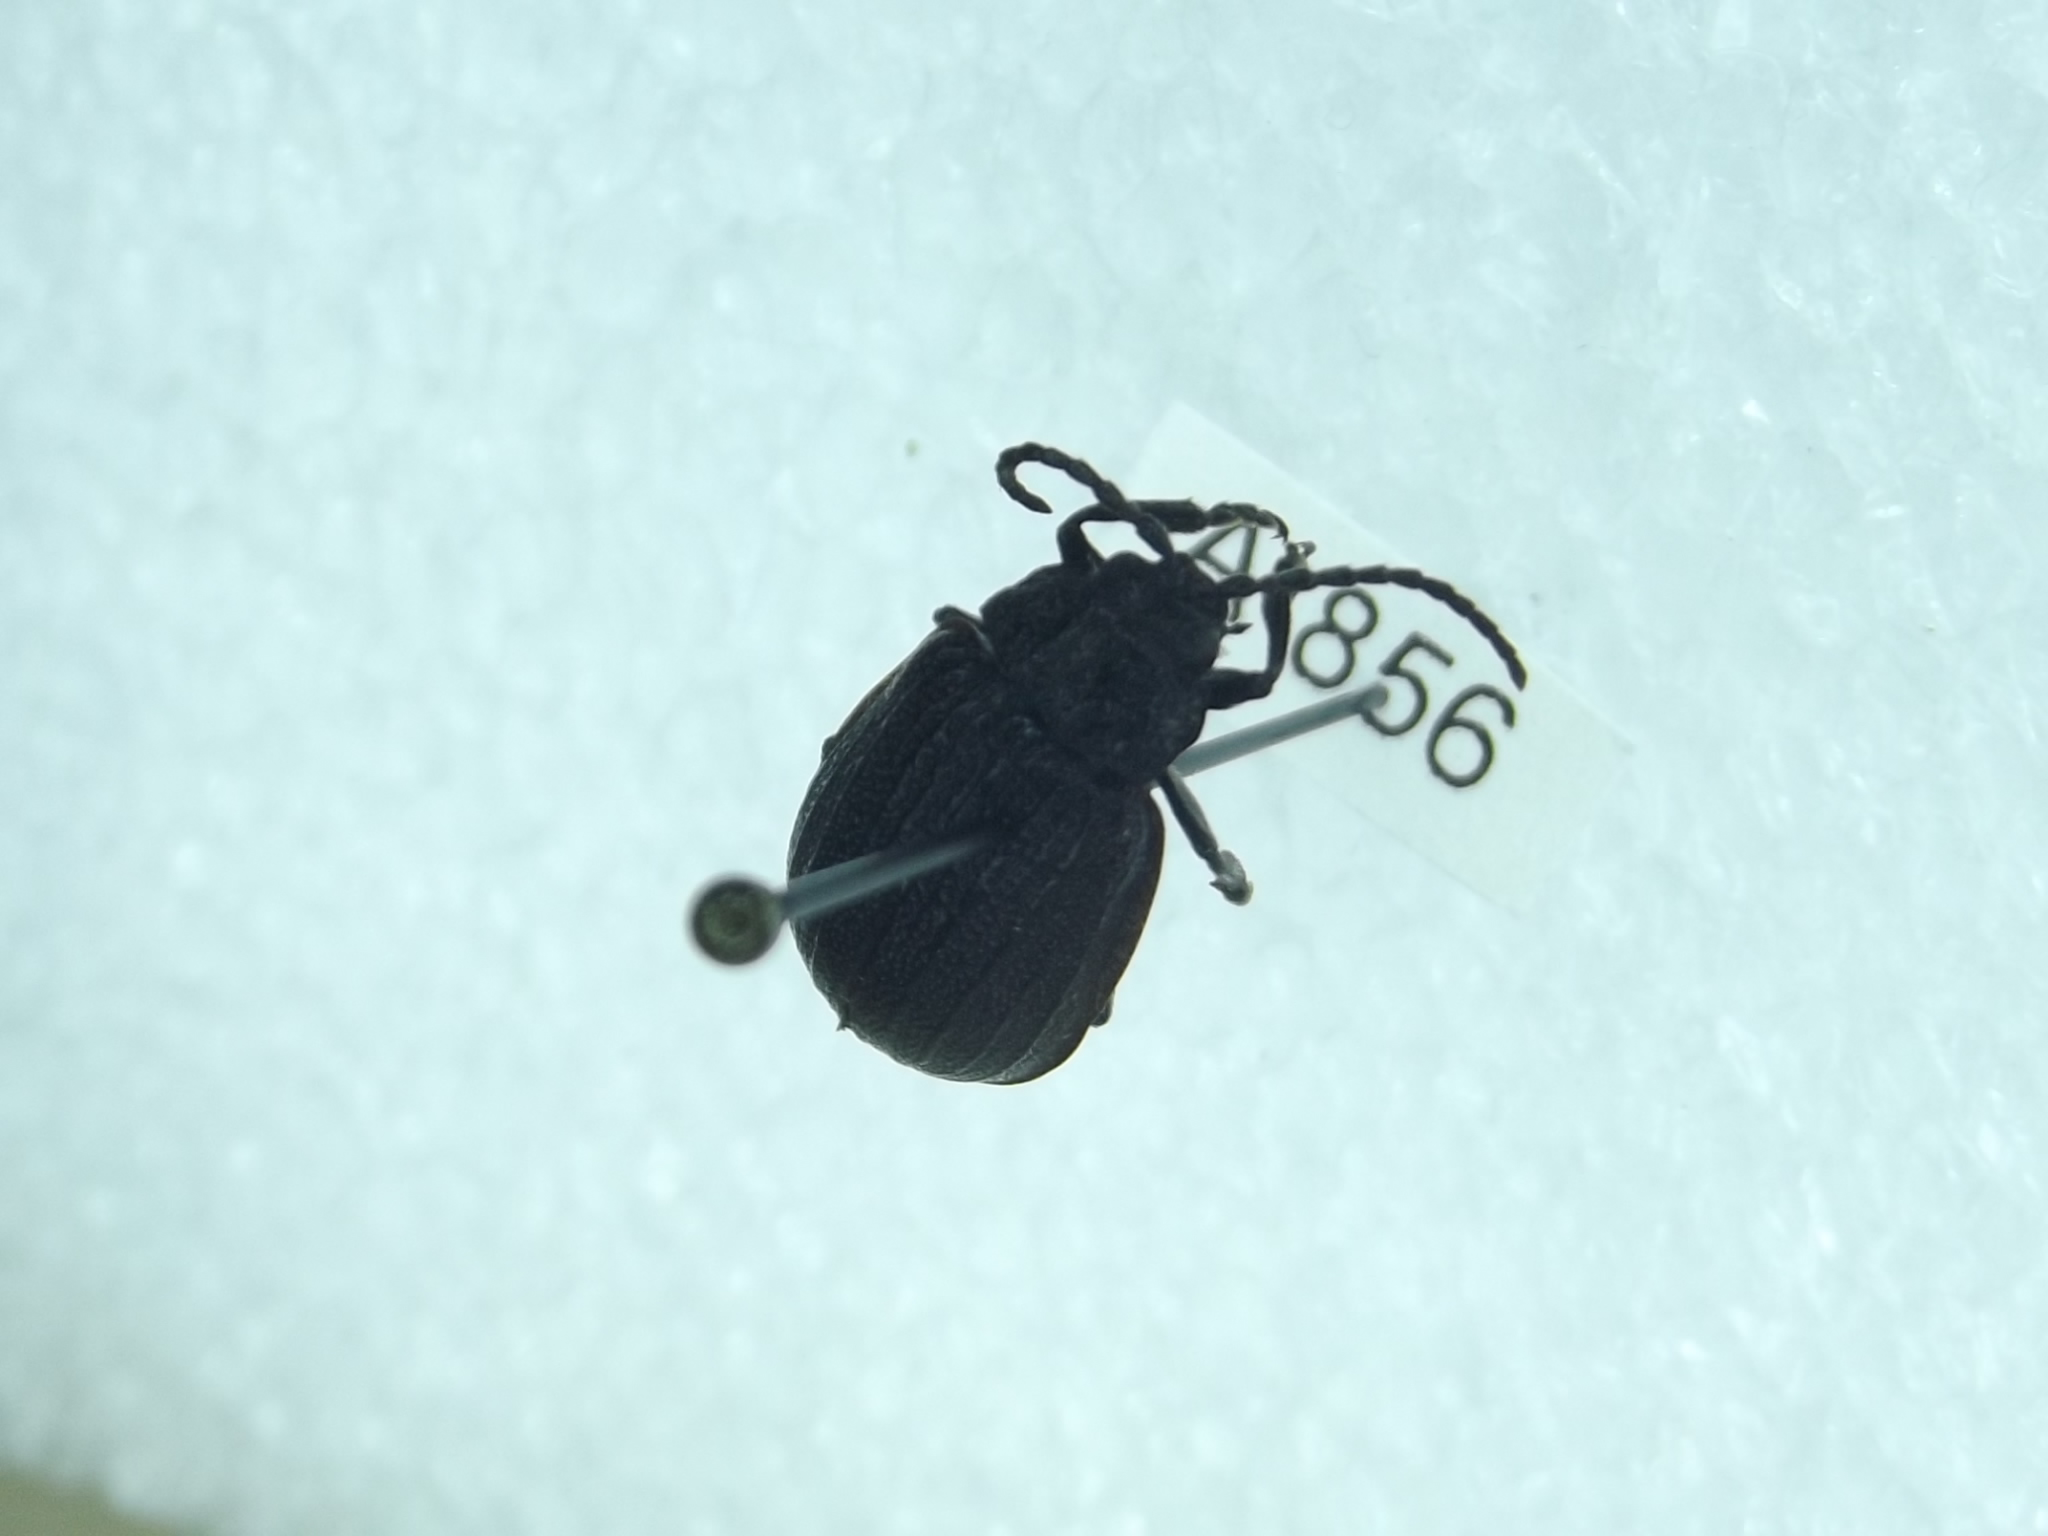Galeruca_tanaceti: (731, 424, 1522, 1087)
